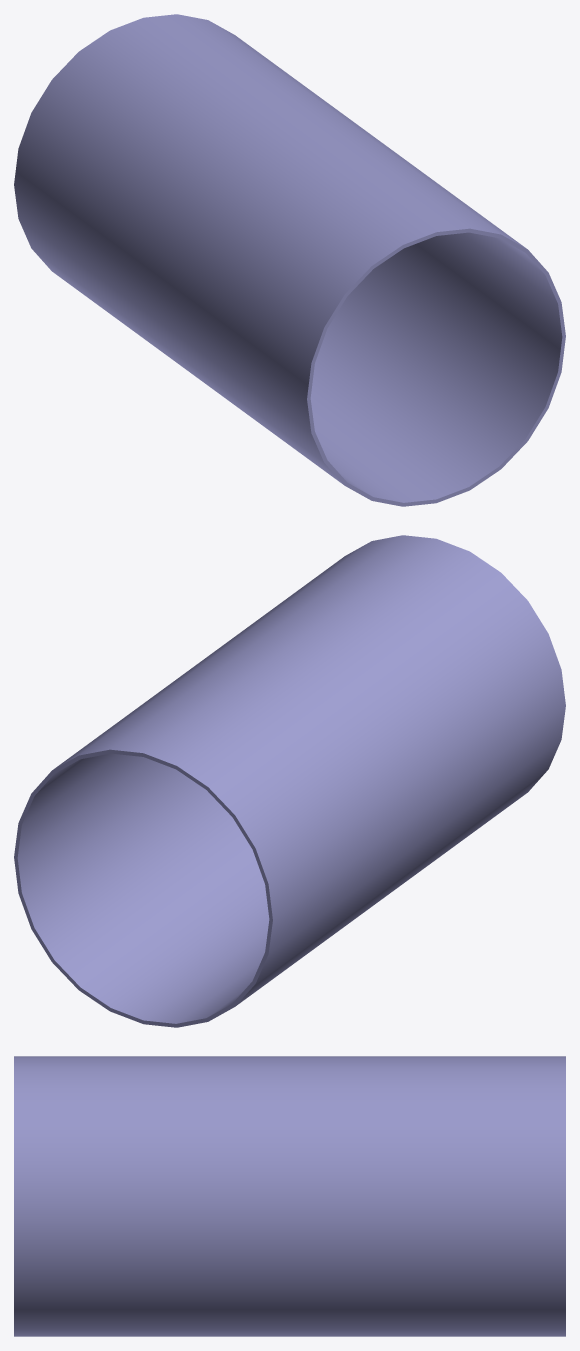
The model's file is PDCUpstreamBPipePipe.gltf.
3 renders of one model, top to bottom at view 1: azimuth 30°, elevation 25°; view 2: azimuth 150°, elevation 25°; view 3: azimuth 270°, elevation 25°, orthographic. The views are drawn at different scales.
Parts seen in each view (by area): view 1: logicPDCUpstreamBPipePipe_pv0x2243580; view 2: logicPDCUpstreamBPipePipe_pv0x2243580; view 3: logicPDCUpstreamBPipePipe_pv0x2243580.
Boxes of the visible parts, x1,y1,x2,y2 form: logicPDCUpstreamBPipePipe_pv0x2243580: [14, 14, 565, 506]; logicPDCUpstreamBPipePipe_pv0x2243580: [14, 535, 565, 1027]; logicPDCUpstreamBPipePipe_pv0x2243580: [14, 1056, 565, 1336].
Size of the model in its own units: 35.61 by 35.61 by 69.77.
